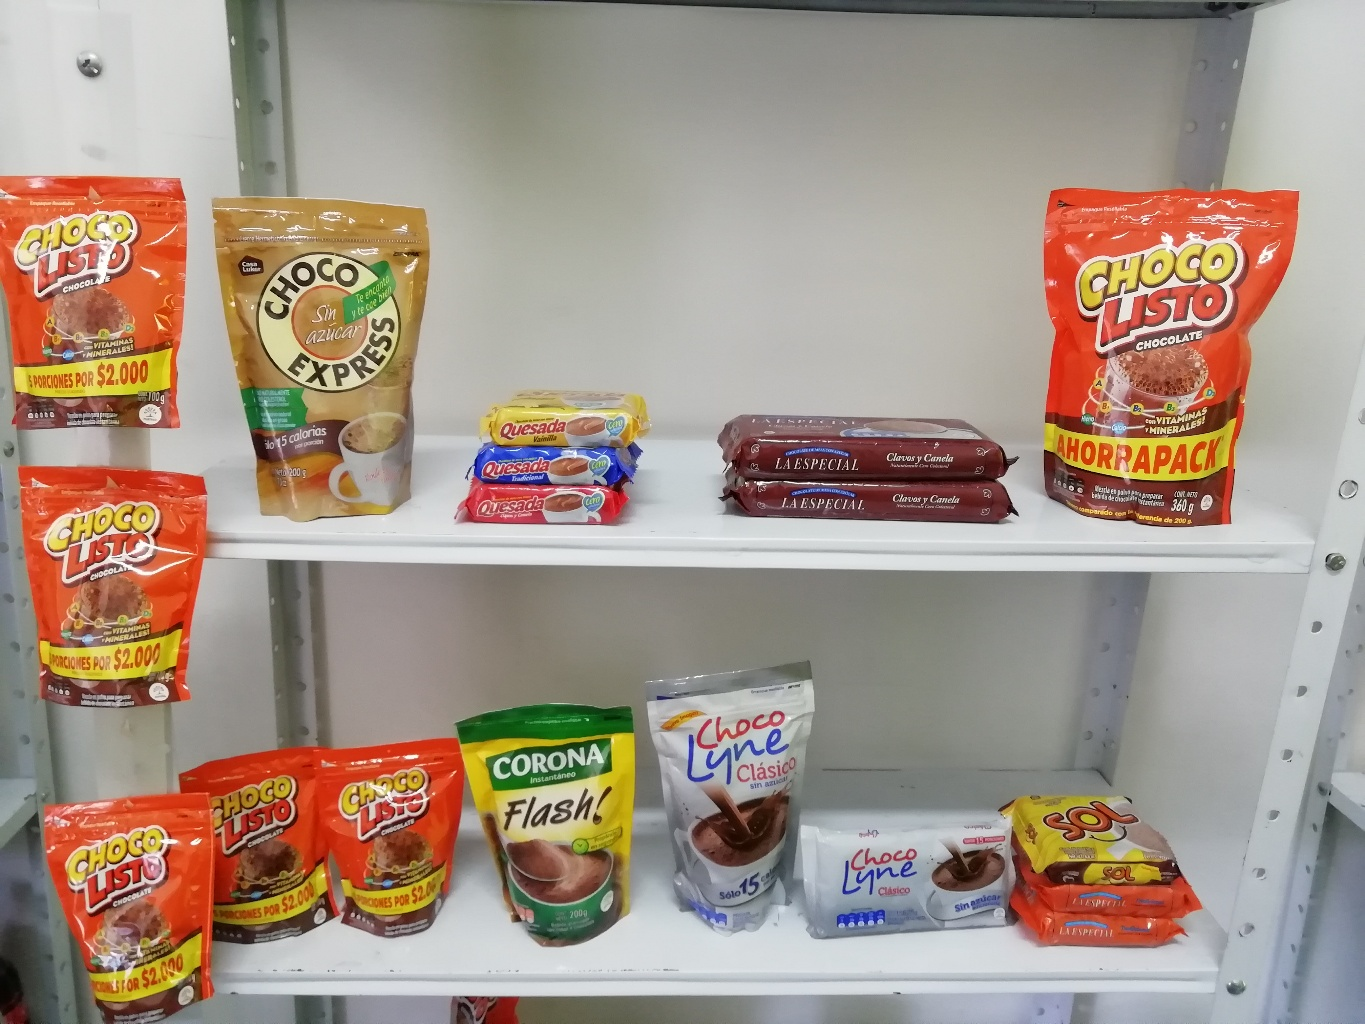COL0170103DYP36000: (1046, 182, 1303, 528)
